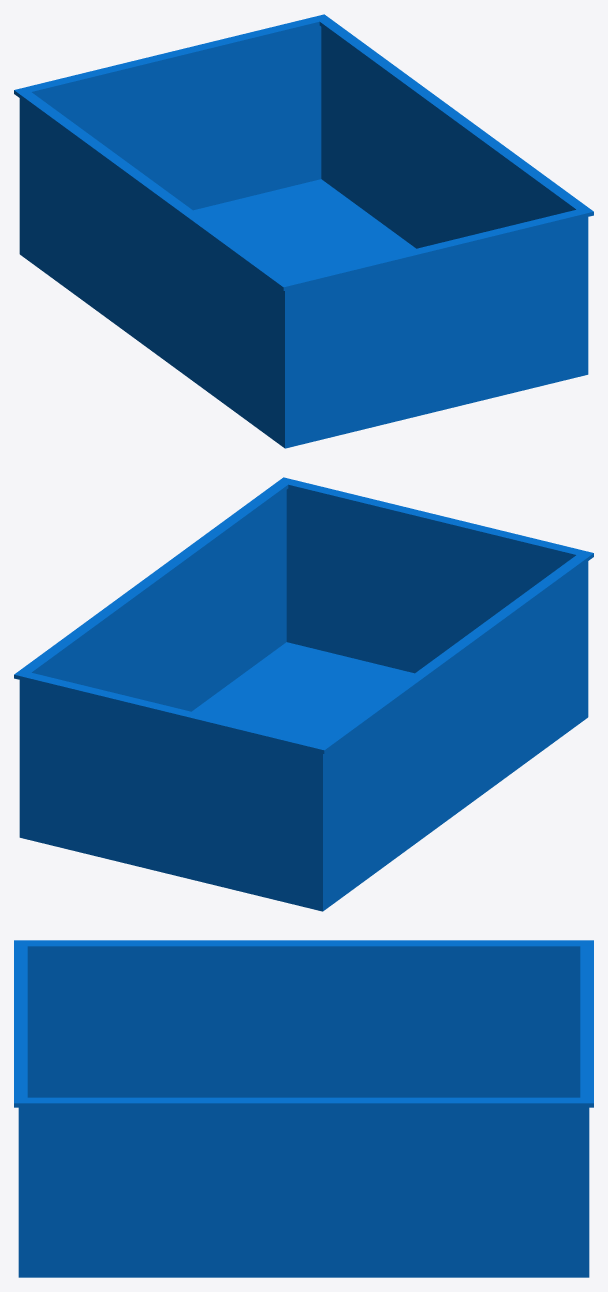
Rendered from tote.dae.
The picture shows the model from 3 angles, top to bottom: view 1: azimuth 30°, elevation 25°; view 2: azimuth 150°, elevation 25°; view 3: azimuth 270°, elevation 25°; orthographic projection. The views are drawn at different scales.
Parts seen in each view (by area): view 1: GENERIC_TOTE; view 2: GENERIC_TOTE; view 3: GENERIC_TOTE.
Part boxes in pixels (bbox=[...]): GENERIC_TOTE: bbox=[14, 14, 593, 448]; GENERIC_TOTE: bbox=[14, 477, 593, 911]; GENERIC_TOTE: bbox=[14, 940, 593, 1277].
Size of the model in its own units: 0.4032 by 0.6064 by 0.2032.
